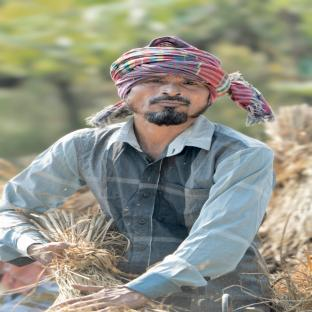Human: (0, 37, 275, 312)
